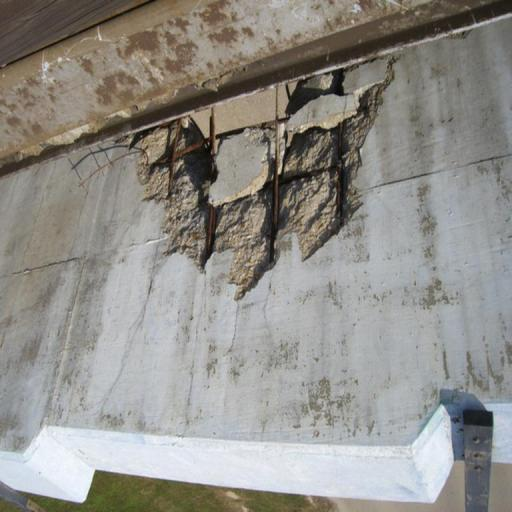spalling: (131, 53, 390, 285)
